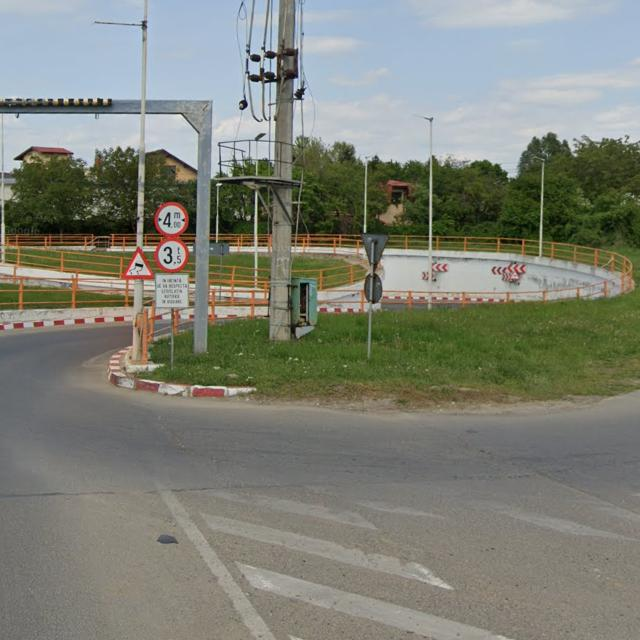forb_weight_over_3.5t: (156, 238, 188, 272)
warn_slippery_road: (121, 246, 154, 279)
